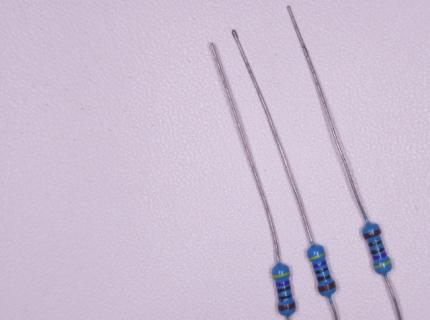Black band: (317, 274, 332, 283), (367, 239, 383, 247), (278, 293, 293, 301), (370, 247, 385, 255), (277, 286, 291, 294), (315, 267, 329, 275)
Brown band: (318, 282, 337, 293), (363, 229, 381, 240), (277, 303, 296, 312)
Violet band: (373, 252, 387, 260), (313, 260, 326, 268), (277, 280, 289, 286)
Yellow band: (374, 260, 391, 268), (309, 252, 325, 260), (273, 272, 289, 278)
